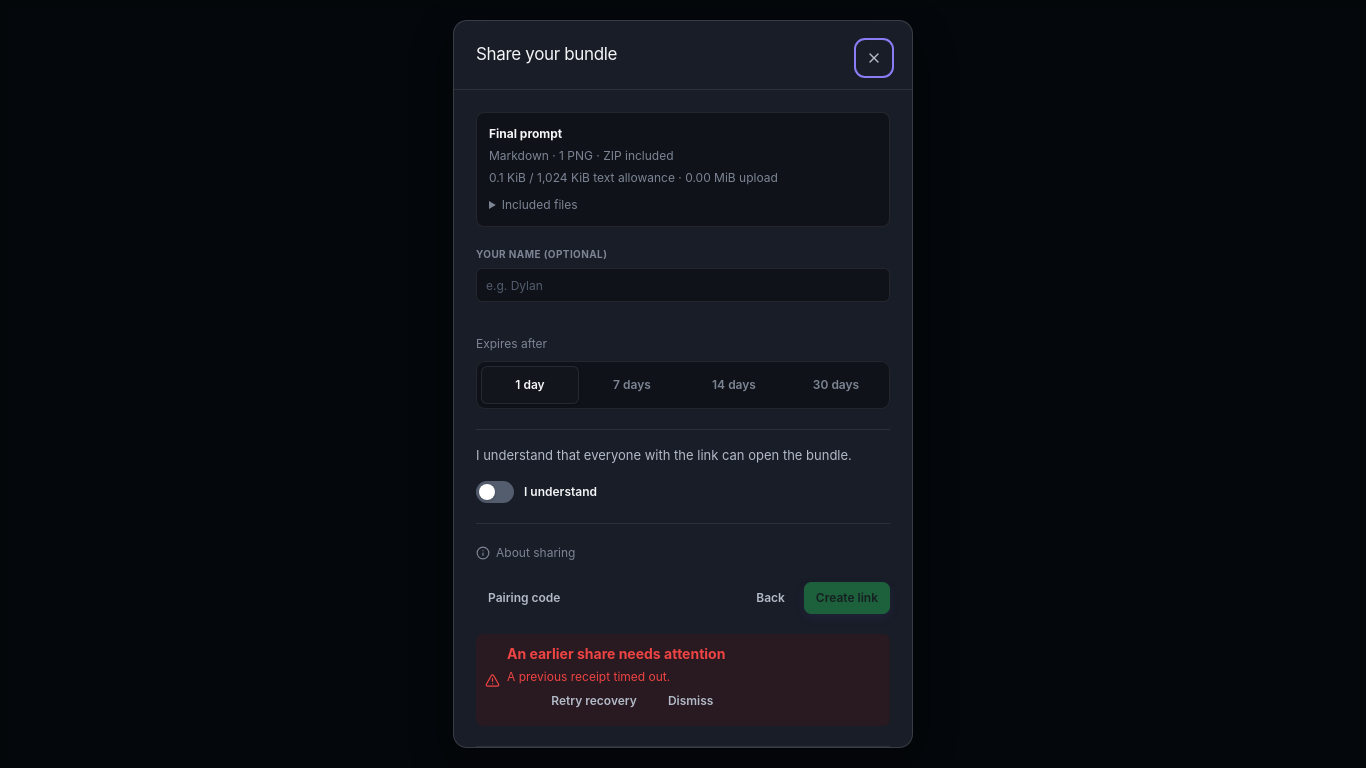
HostedShareDialog › dismisses recovery warnings without changing history or invoking a destructive bridge action
expect the text "A previous receipt timed out." is shown: met, box 507,669 -> 670,684
Click the button "Dismiss": [691, 701] box 656,685 -> 725,717
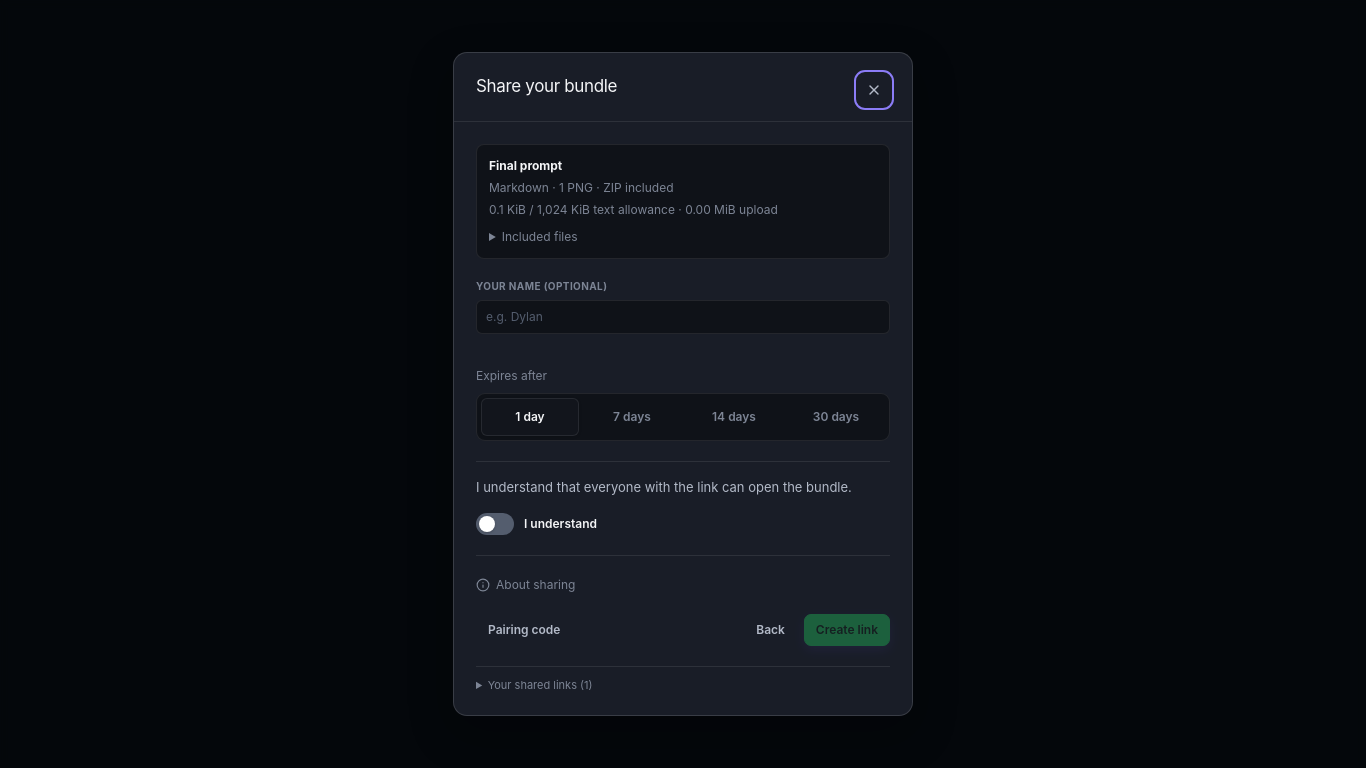
expect the text "A previous receipt timed out." is gone: met
expect the heading "Your shared links (1)" is shown: met, box 488,678 -> 592,692
